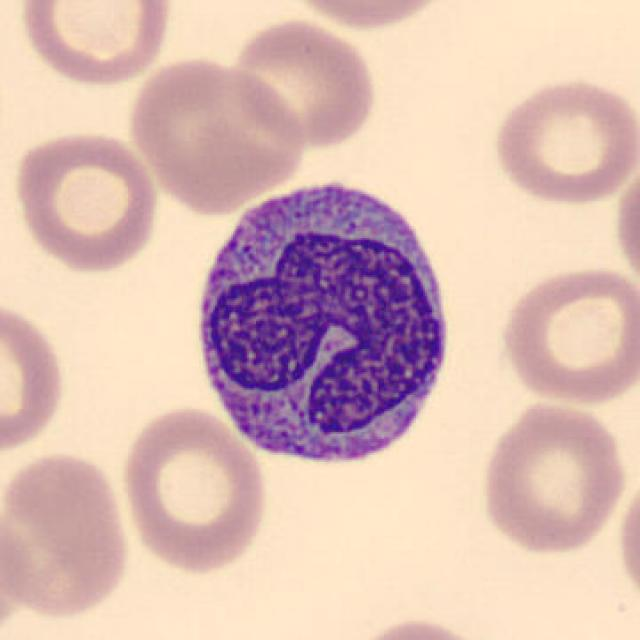Monocyte: (182, 162, 462, 483)
RBC: (122, 53, 308, 215), (116, 402, 272, 577), (475, 395, 629, 559), (0, 446, 135, 624), (9, 125, 162, 275), (494, 263, 638, 407), (226, 16, 380, 150), (487, 72, 637, 208), (14, 0, 176, 90), (0, 294, 69, 458), (273, 0, 458, 33), (610, 155, 640, 295), (343, 613, 497, 640), (613, 464, 640, 612)
